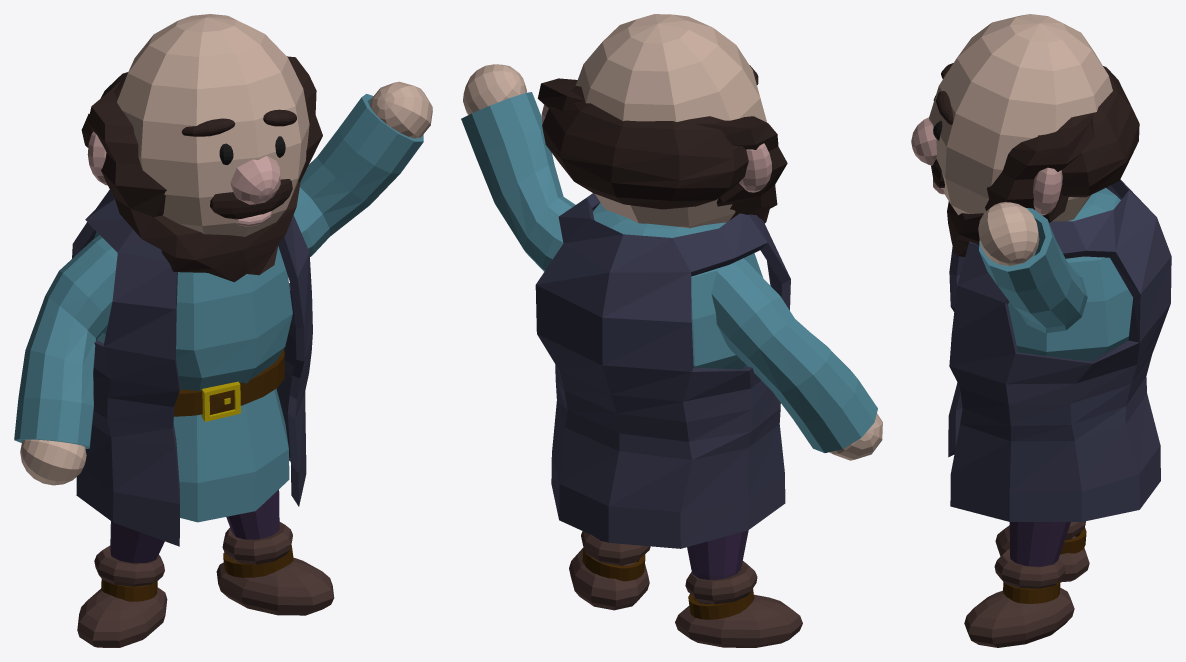
Rendered from Character08.fbx.
3 views of the same model, side by side, from view 1: azimuth 30°, elevation 25°; view 2: azimuth 150°, elevation 25°; view 3: azimuth 270°, elevation 25° (orthographic).
Parts seen in each view (by area): view 1: WeaponSeller; view 2: WeaponSeller; view 3: WeaponSeller.
Part boxes in pixels (<box>): WeaponSeller: <box>14,14,432,647</box>; WeaponSeller: <box>461,14,882,647</box>; WeaponSeller: <box>911,14,1171,647</box>.
Size of the model in its own units: 0.3326 by 0.461 by 0.1867.
